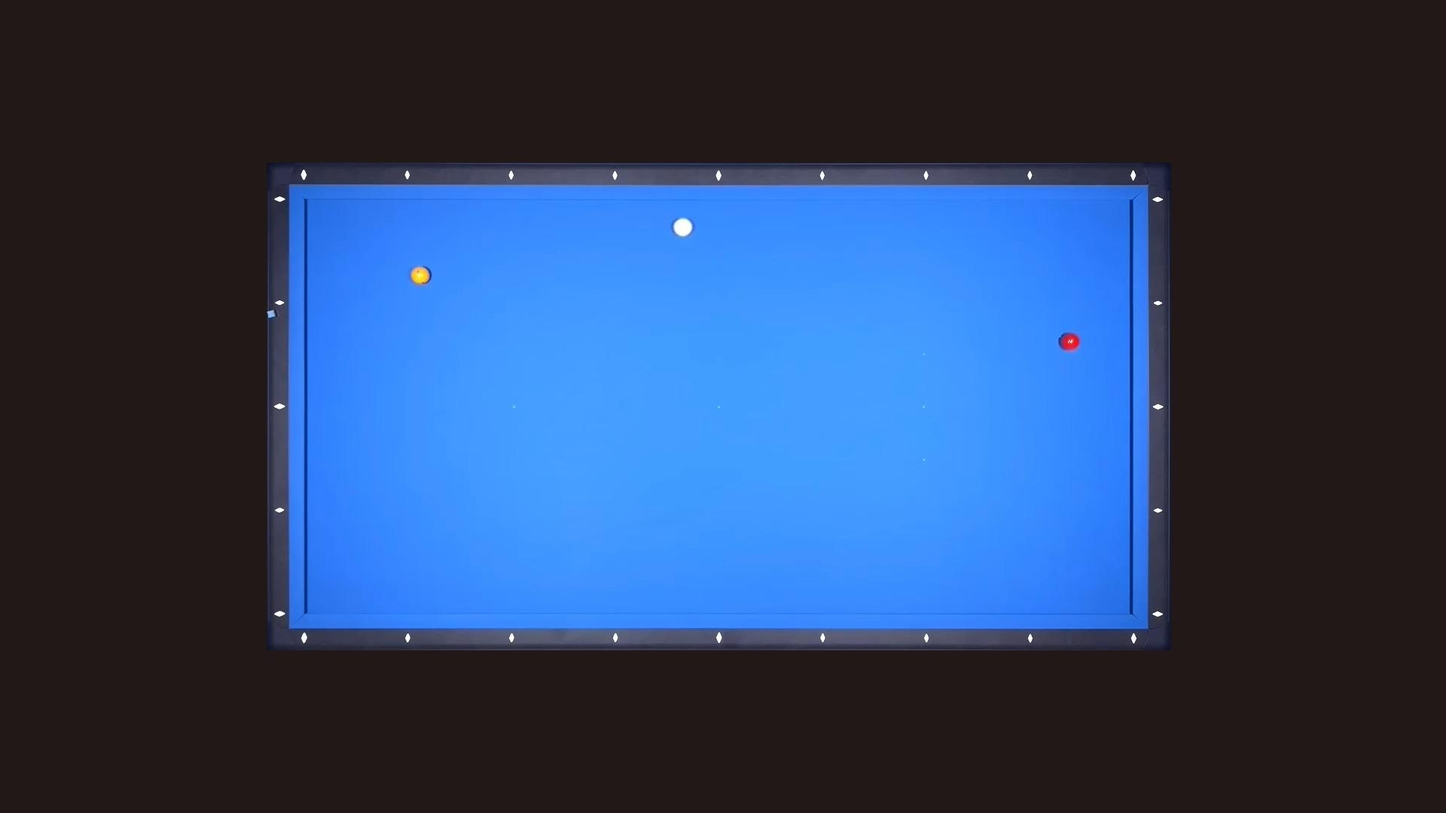-billiard-ball: (409, 265, 430, 285)
Red: (1056, 335, 1081, 354)
White: (669, 218, 694, 239)
Yellow: (406, 266, 432, 286)
